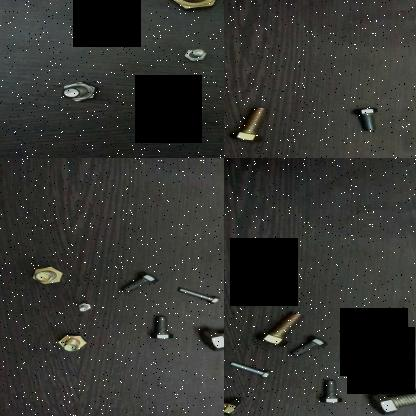Bolts: (252, 308, 306, 349), (226, 104, 270, 145), (362, 389, 416, 415), (53, 80, 103, 106), (340, 348, 394, 370), (288, 334, 330, 362), (118, 271, 160, 297), (313, 375, 345, 408), (172, 286, 222, 307), (159, 0, 223, 16), (143, 314, 175, 344), (349, 106, 385, 132), (52, 332, 94, 354), (172, 42, 210, 66), (193, 325, 224, 354), (224, 362, 270, 380), (28, 265, 66, 285), (224, 388, 244, 416), (76, 302, 100, 314)
